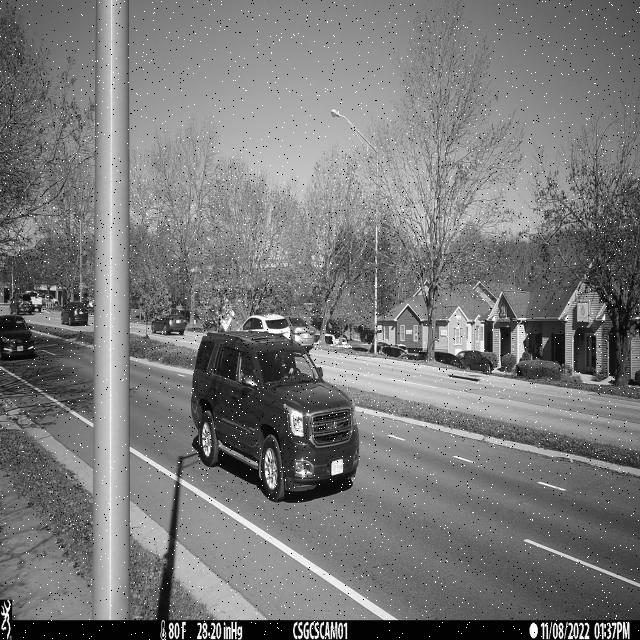SUV: (191, 329, 360, 503)
